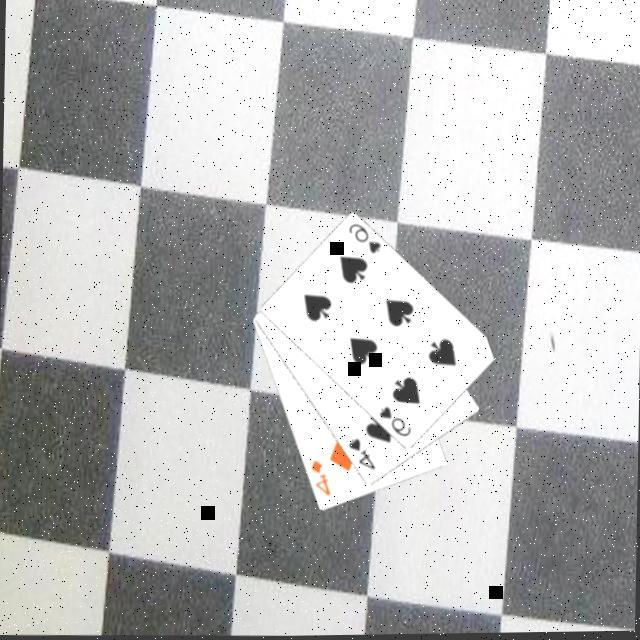4D: (308, 458, 334, 498)
4S: (346, 435, 380, 474)
6S: (346, 220, 386, 257), (377, 404, 416, 441)
